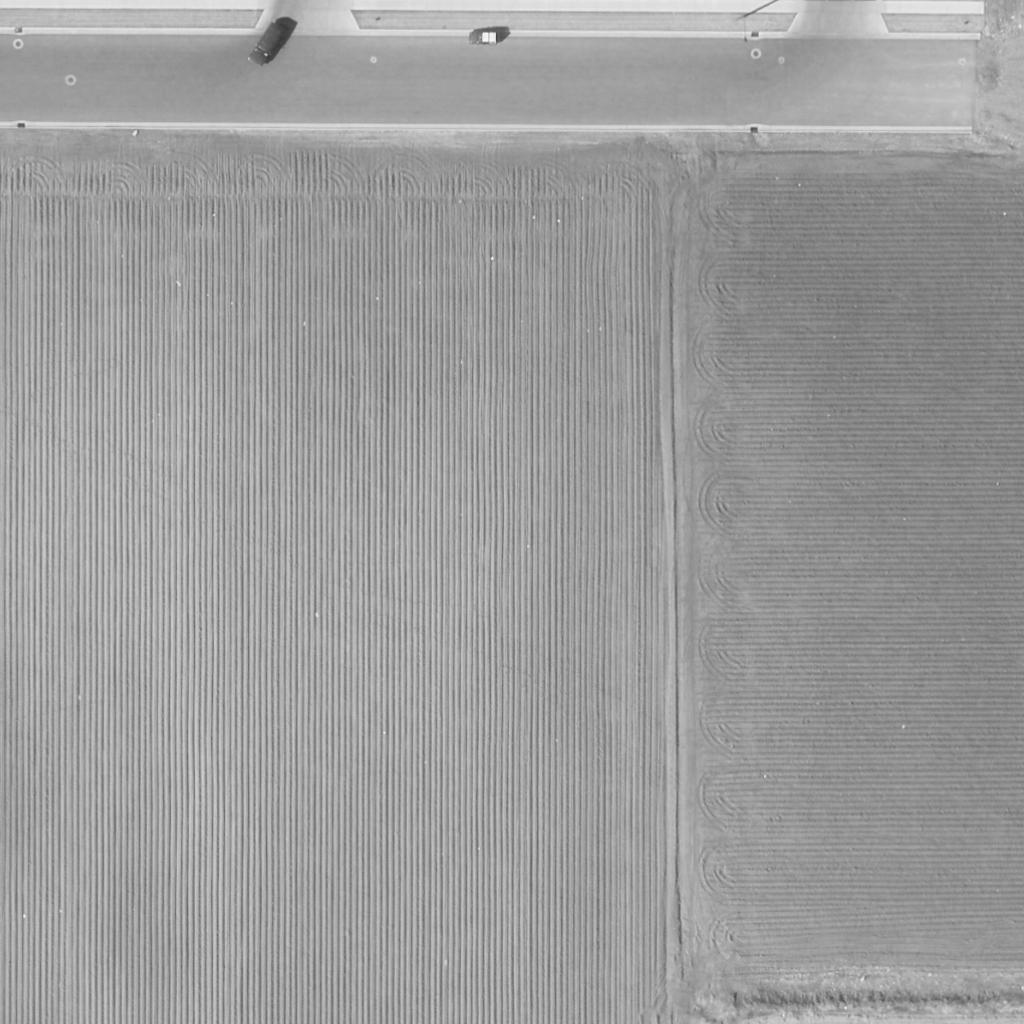vehicle: (246, 23, 288, 69), (467, 31, 499, 47)
